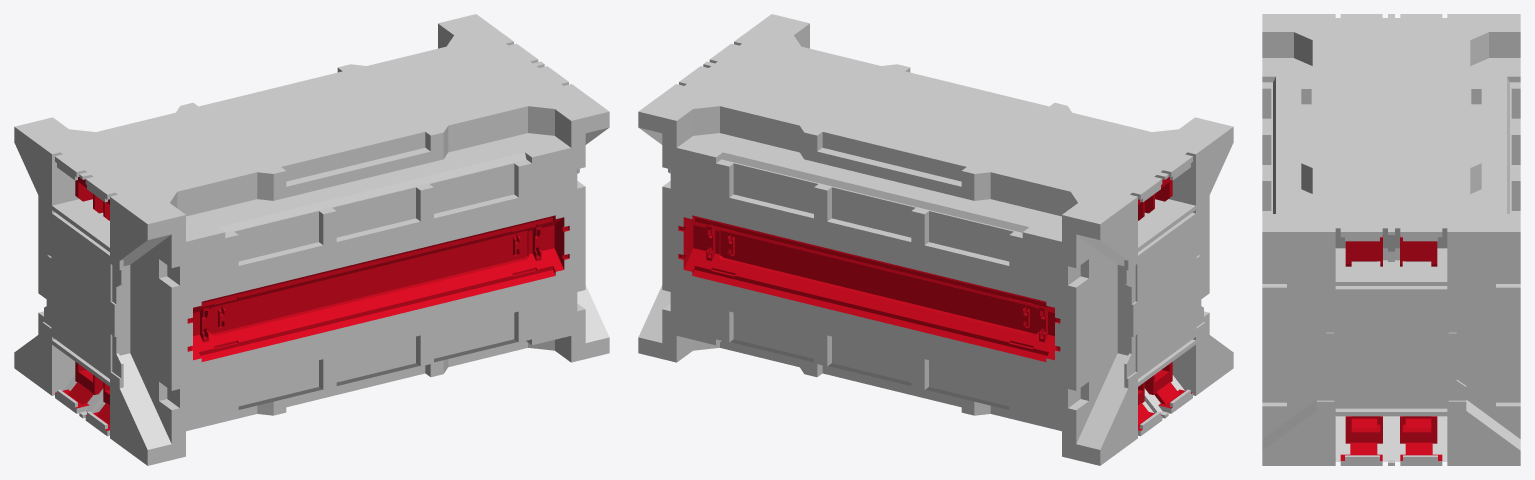
The model's file is Scifi2_Prop_ContainerB.fbx.
3 renders of one model, left to right at view 1: azimuth 30°, elevation 25°; view 2: azimuth 150°, elevation 25°; view 3: azimuth 270°, elevation 25°, orthographic. The views are drawn at different scales.
Visible parts, largest first — view 1: Cube; view 2: Cube; view 3: Cube.
Part boxes in pixels (<box>): Cube: <box>14,14,609,465</box>; Cube: <box>638,14,1233,465</box>; Cube: <box>1262,14,1520,465</box>.
Bounding box in the file's own units: 800 × 400 × 400.
